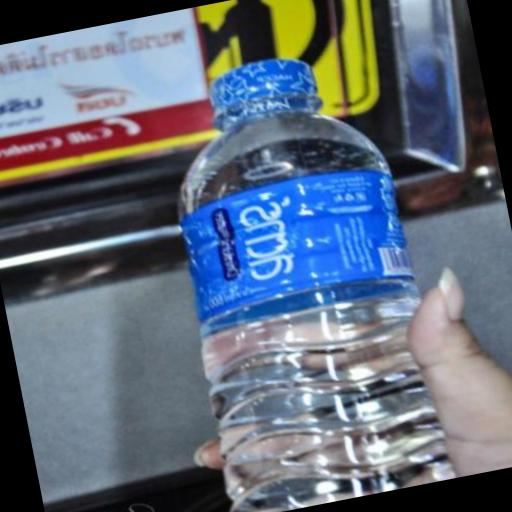Coca: (131, 30, 470, 512)
